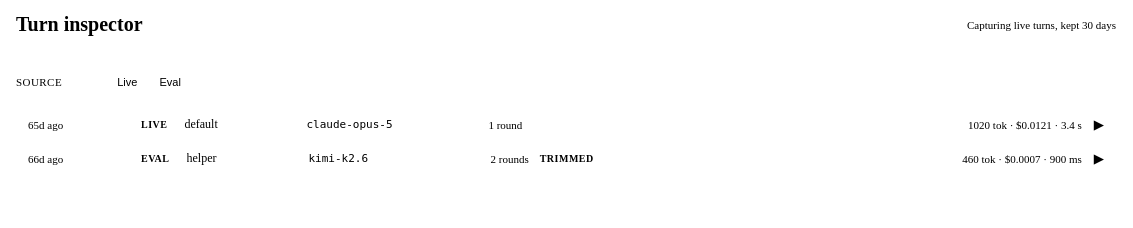
Test: Turn inspector — list › a filter that matches nothing offers a way back
Expected: the element with test id "trace-rows" is shown, [16,108,1116,176]
Click the radio button with test id "source-eval": (170,82) [150,70,190,94]
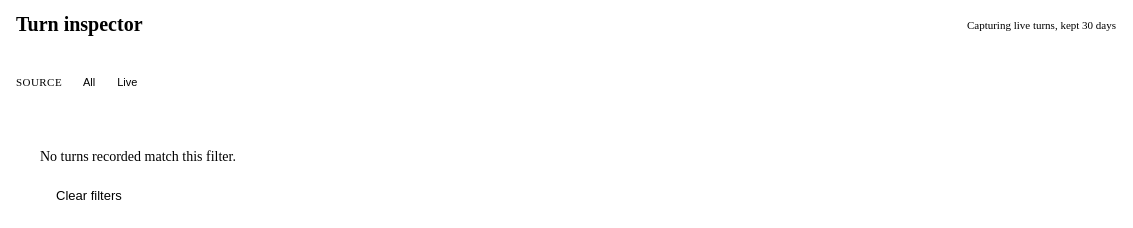
Expected: the element with test id "traces-empty" is shown, [40,149,236,211]
Expected: the text "No turns recorded match this filter." is shown, [40,149,236,164]
Expected: the button with test id "clear-filters" is shown, [40,180,138,211]
